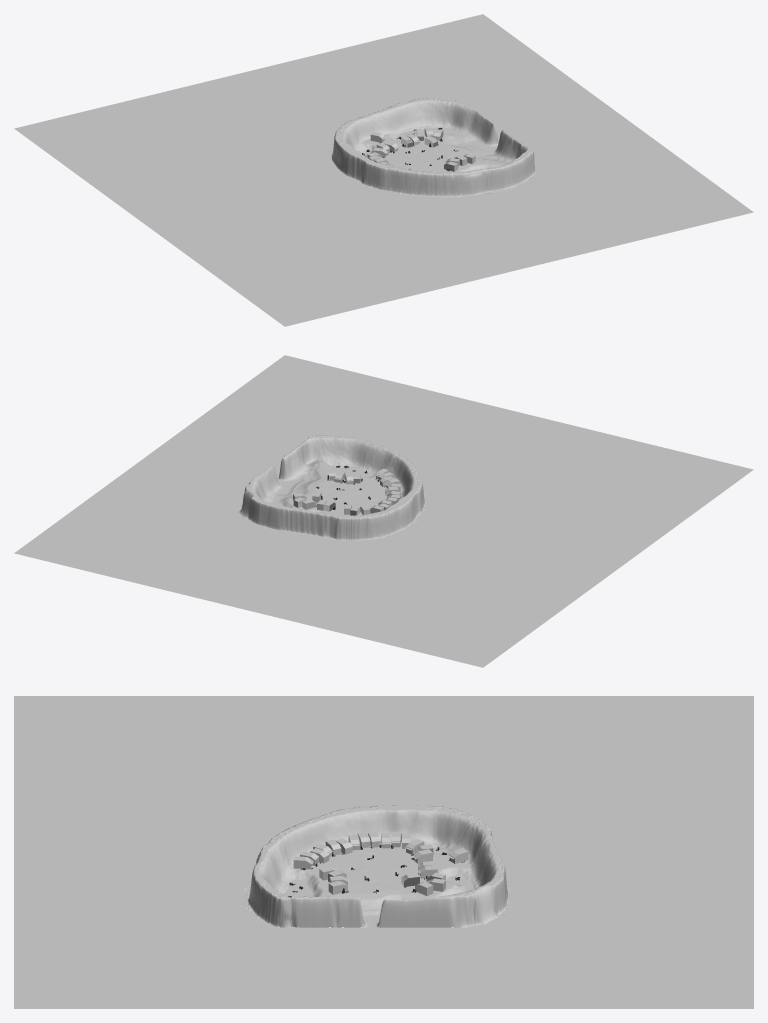
Rendered from SM_Cidade_Intro.fbx.
The picture shows the model from 3 angles, top to bottom: view 1: azimuth 30°, elevation 25°; view 2: azimuth 150°, elevation 25°; view 3: azimuth 270°, elevation 25°; orthographic projection. The views are drawn at different scales.
Visible parts, largest first — view 1: Fase_01; view 2: Fase_01; view 3: Fase_01.
Boxes of the visible parts, x1,y1,x2,y2 form: Fase_01: (14,14,753,326); Fase_01: (14,355,753,667); Fase_01: (14,696,753,1008).
Size of the model in its own units: 99798 by 4308 by 99798.
